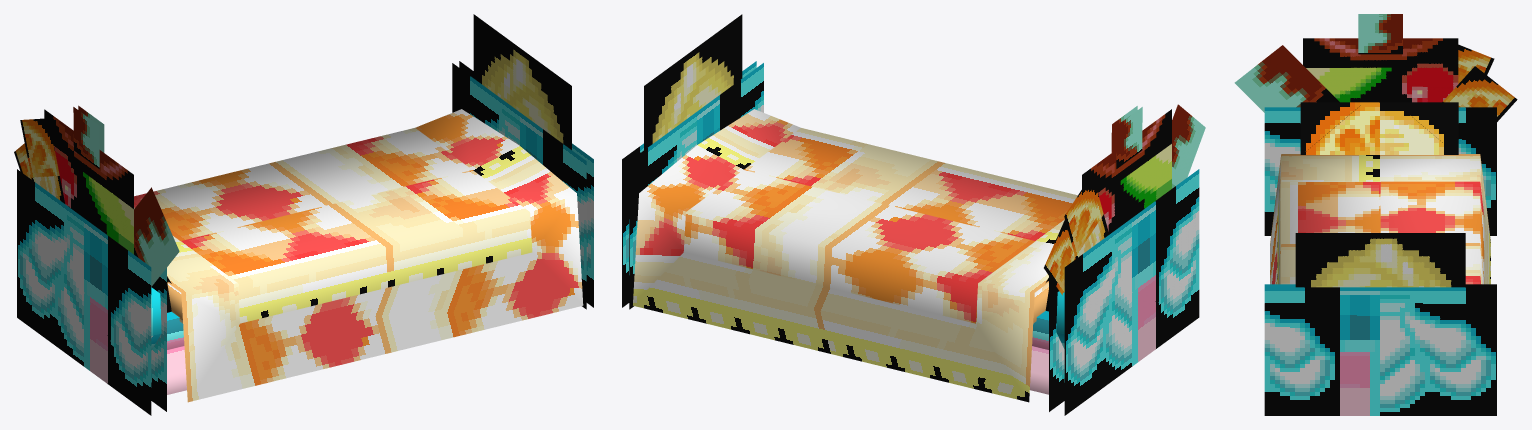
3 views of the same model, side by side, from view 1: azimuth 30°, elevation 25°; view 2: azimuth 150°, elevation 25°; view 3: azimuth 270°, elevation 25° (orthographic). The views are drawn at different scales.
Visible parts, largest first — view 1: 3750dl_alamo; view 2: 3750dl_alamo; view 3: 3750dl_alamo.
Part boxes in pixels (x1=…): 3750dl_alamo: x1=14, y1=14, x2=593, y2=415; 3750dl_alamo: x1=622, y1=14, x2=1205, y2=415; 3750dl_alamo: x1=1234, y1=14, x2=1517, y2=415.
Size of the model in its own units: 1.93 by 1.04 by 1.24.
Materials: 4 (4 with a texture image).
